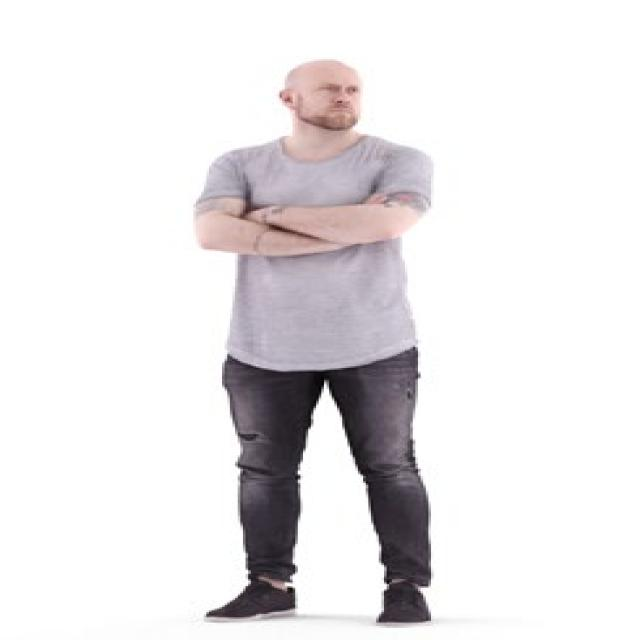standing: (181, 58, 443, 628)
